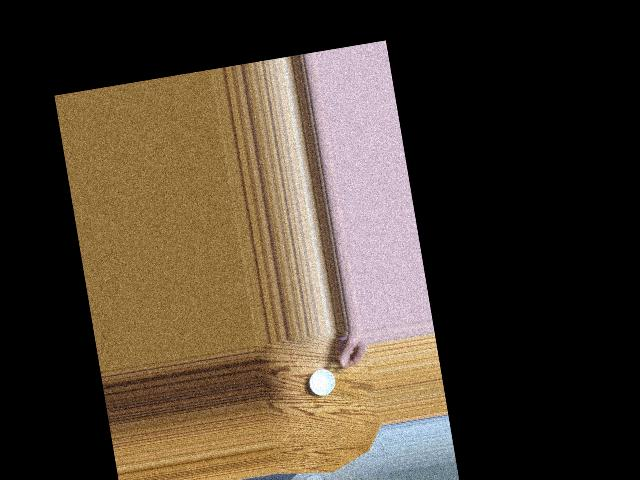cotage: (308, 363, 339, 397)
